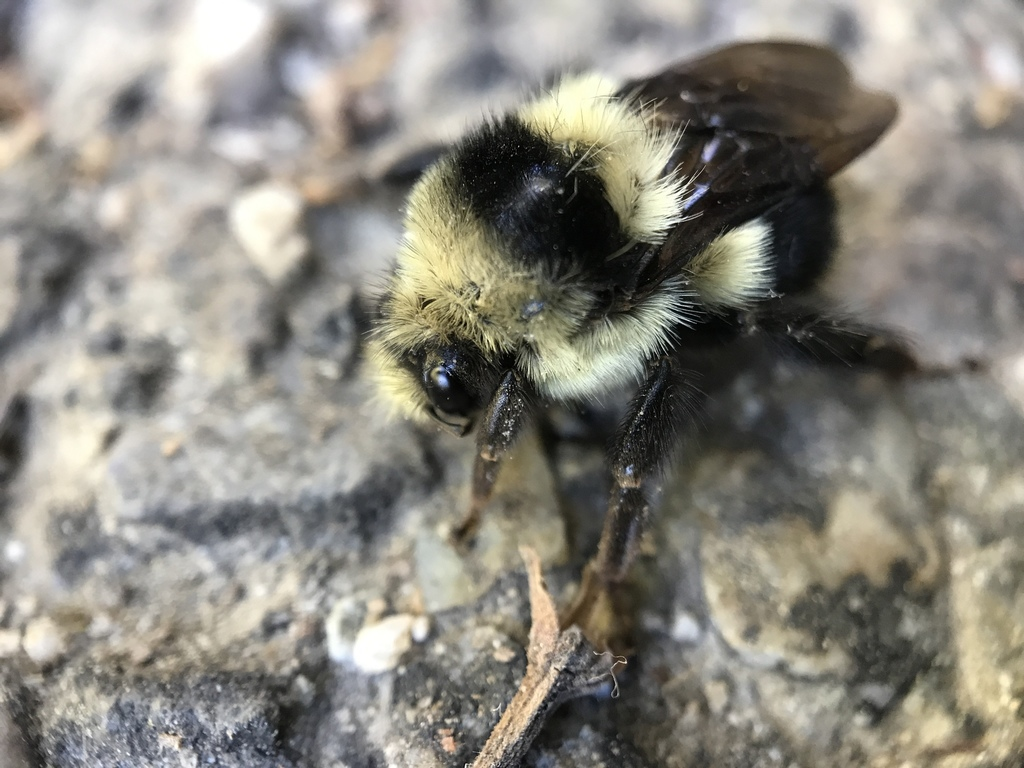bumblebee: (360, 41, 987, 639)
